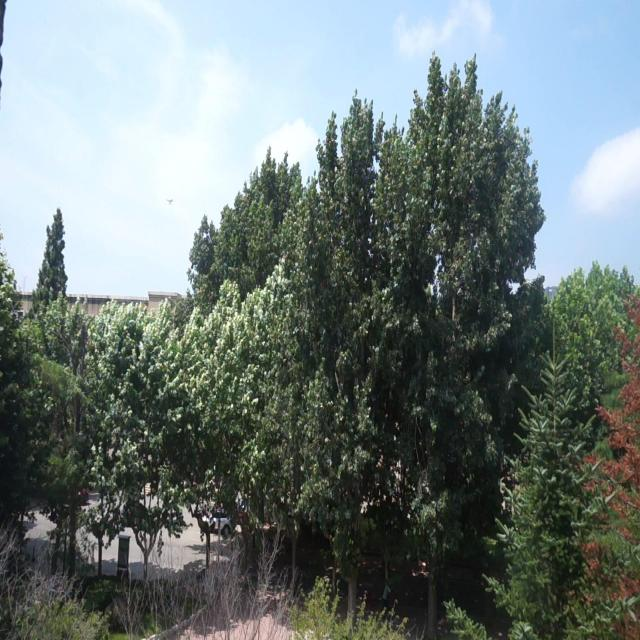UAV: (167, 198, 173, 204)
